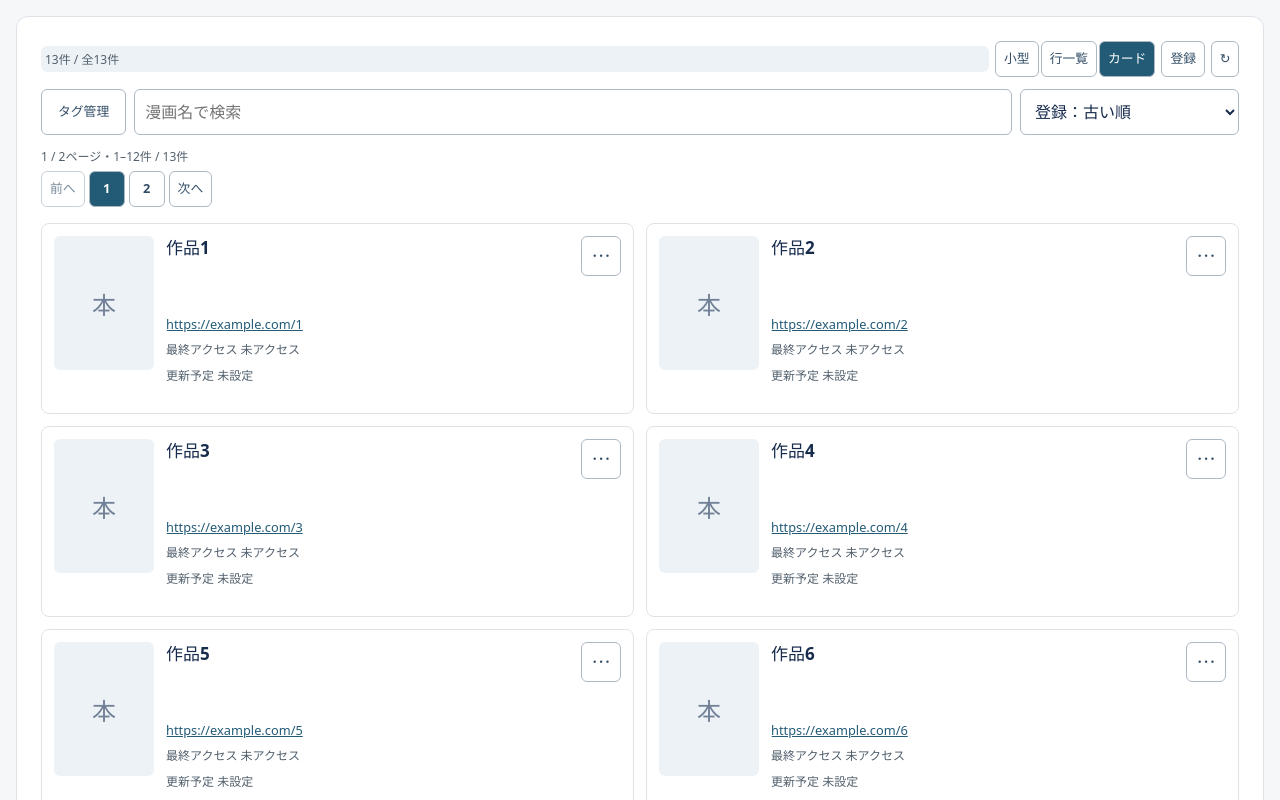
13件の境界で空一覧と最終ページを区別する
Expected: the button named "1ページ" is enabled, [89,171,125,207]
Click the button named "2ページ".
click(147, 189)  # box [129,171,165,207]
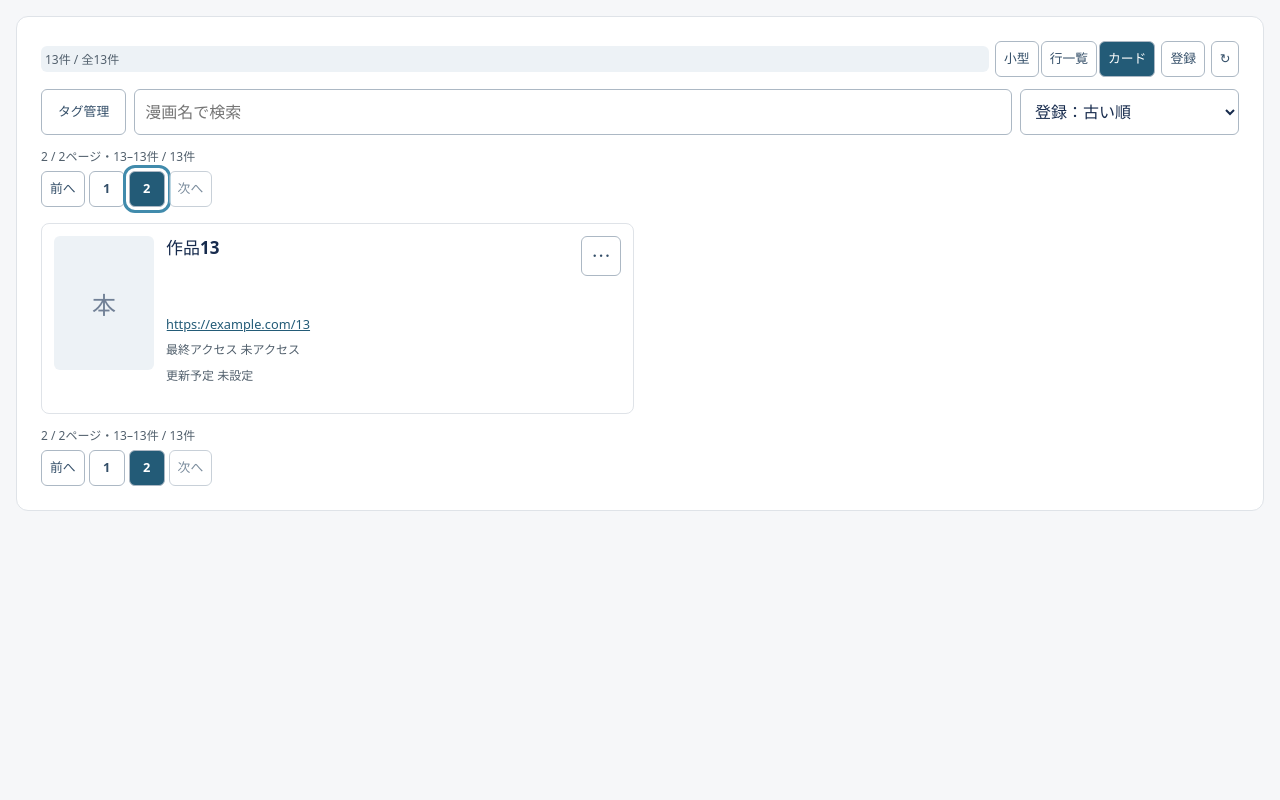
Expected: the 1st button "次へ" is disabled, [169,171,212,207]
